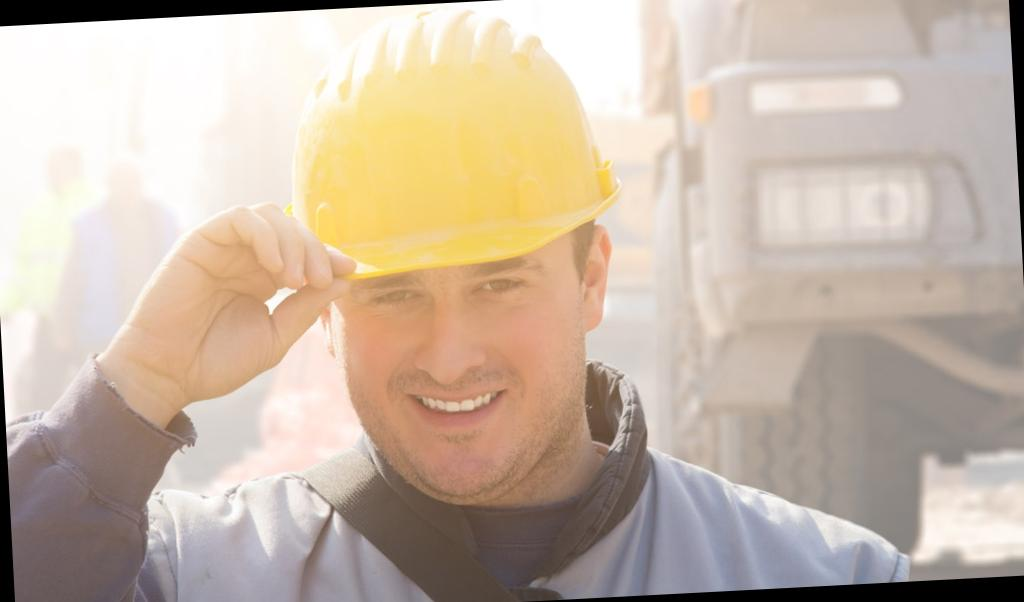helmet: (249, 0, 622, 295)
